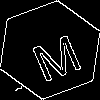M: (25, 25, 85, 83)
